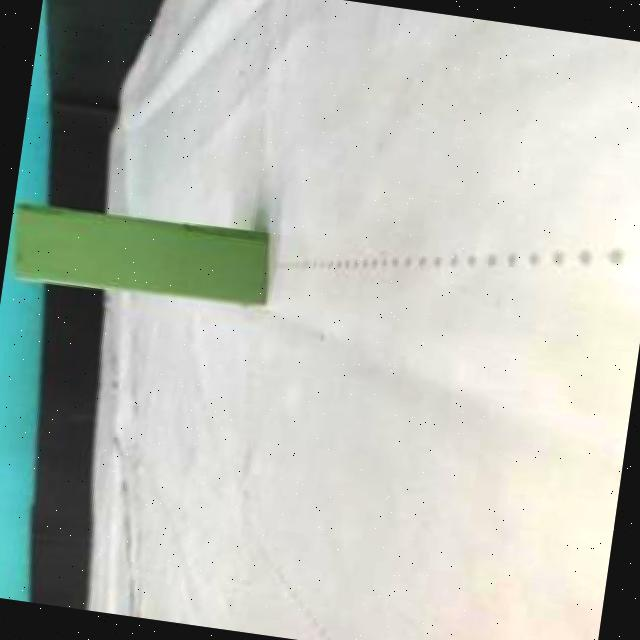greenbox: (3, 196, 276, 314)
